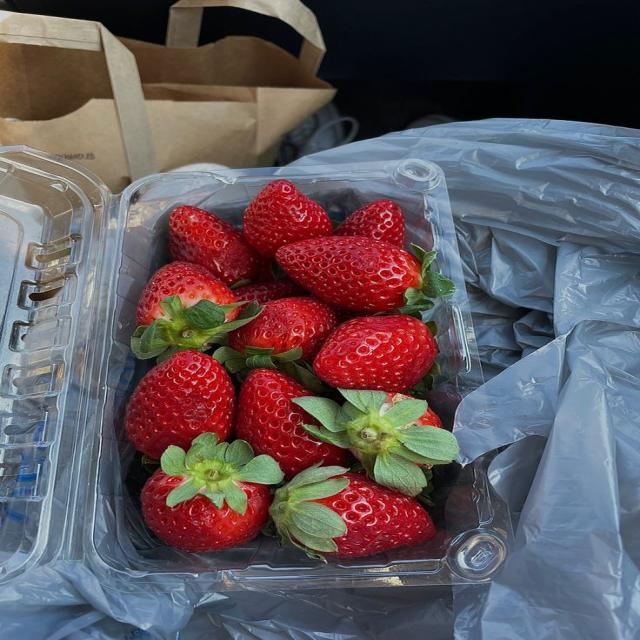strawberry: (294, 389, 459, 495), (141, 434, 282, 551), (270, 467, 435, 559), (277, 237, 454, 313), (236, 369, 350, 479), (132, 262, 258, 358), (126, 351, 235, 459), (314, 316, 439, 392), (215, 297, 337, 372), (169, 206, 263, 285), (244, 180, 332, 257), (334, 199, 405, 247), (234, 278, 306, 305)
